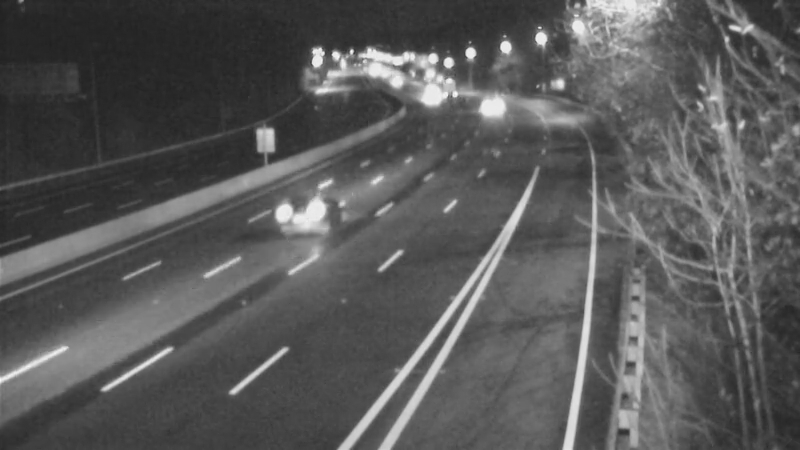vehicle: (258, 172, 338, 252), (369, 57, 419, 107), (421, 63, 471, 113), (401, 72, 451, 122), (468, 82, 518, 132)
